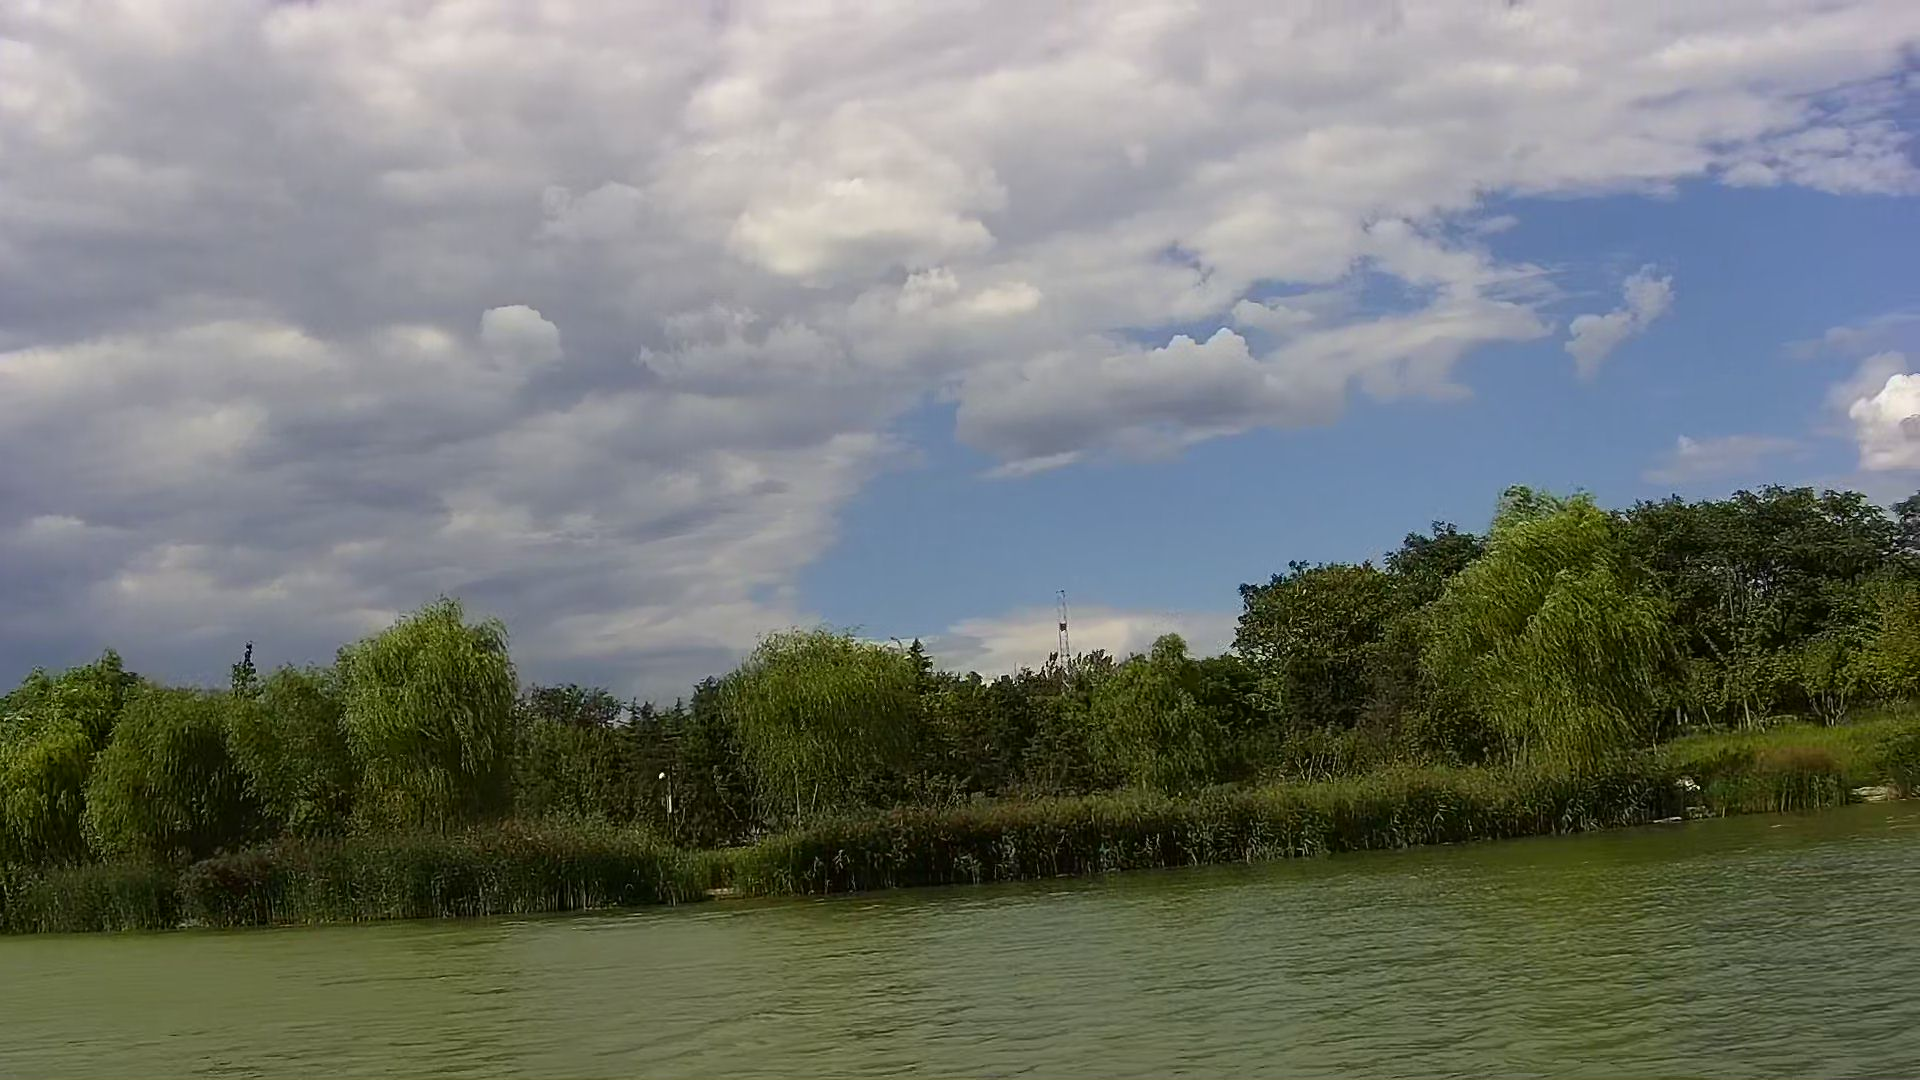rock: (1850, 777, 1902, 807)
